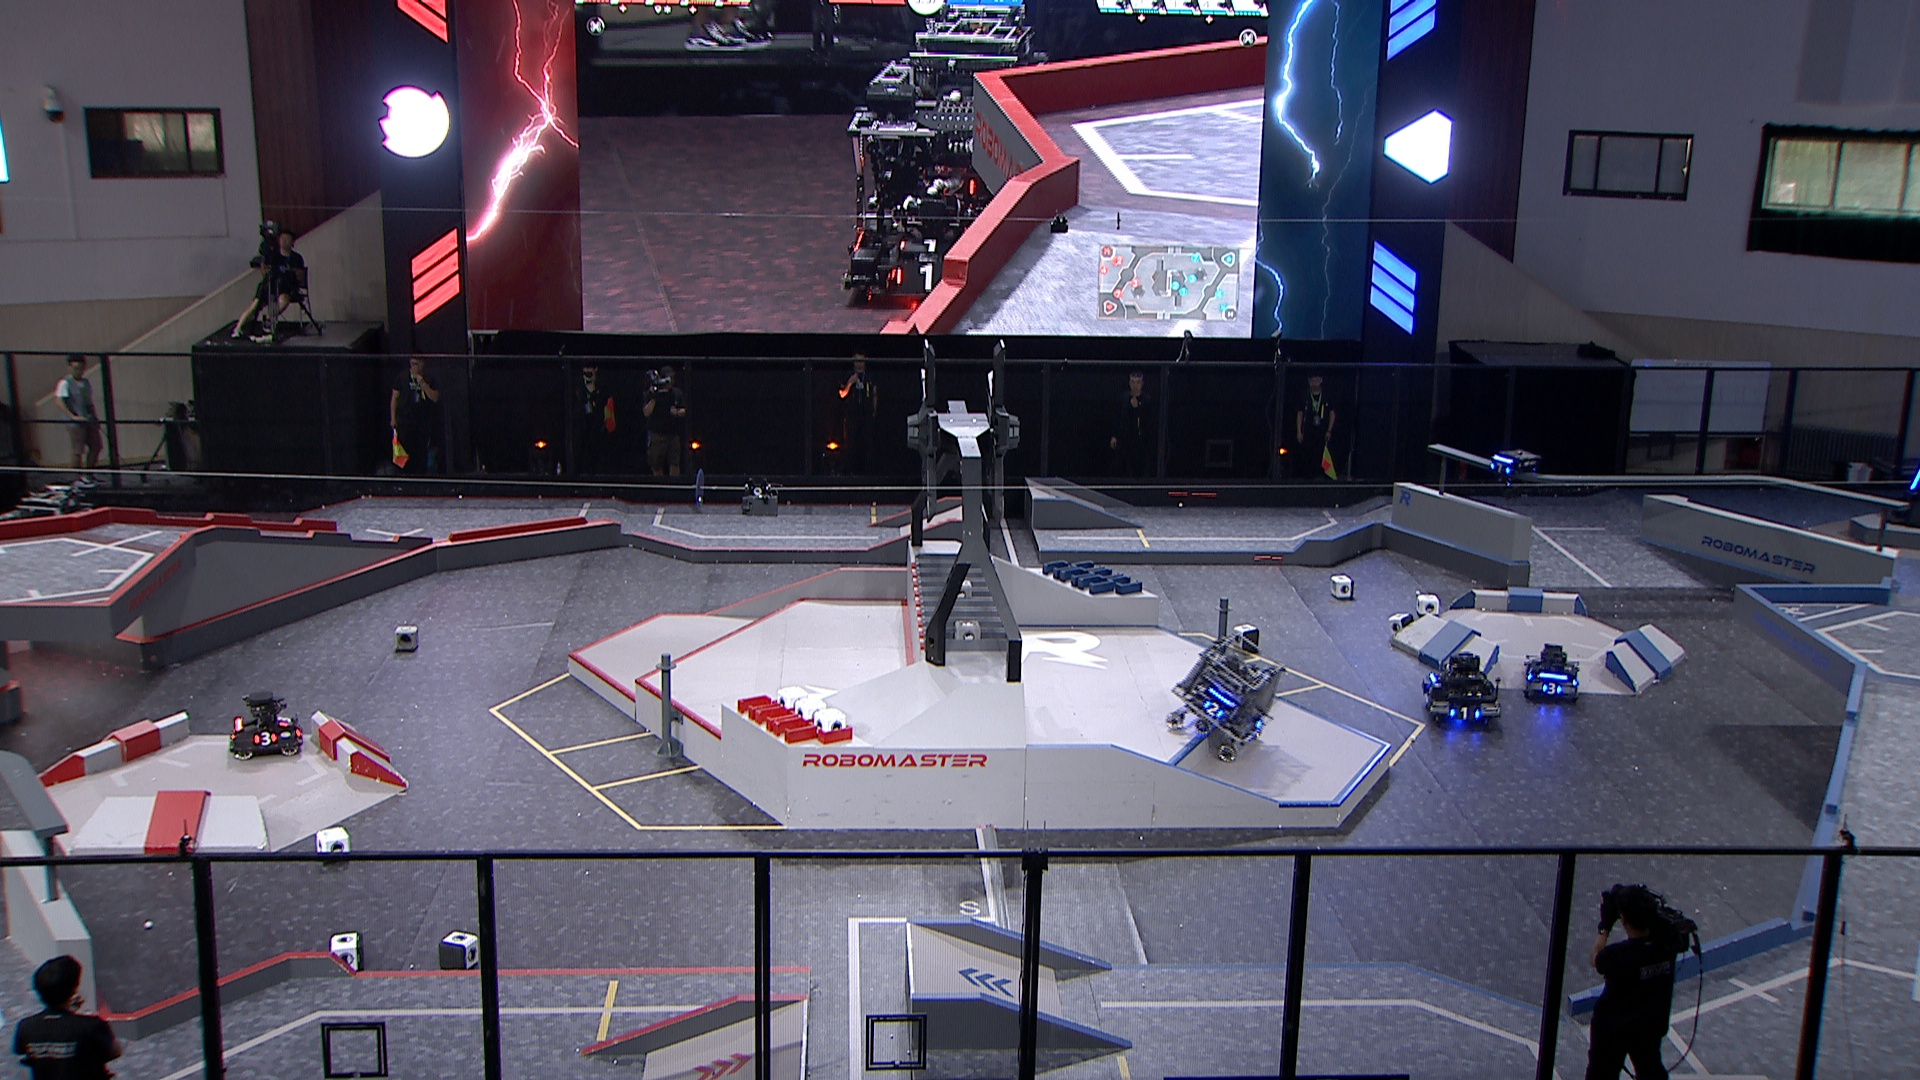armor: (1449, 702, 1481, 723), (1203, 700, 1226, 723), (1542, 680, 1567, 698), (1489, 460, 1513, 477), (253, 731, 278, 746), (1908, 469, 1920, 493), (276, 713, 294, 728)
base: (1888, 448, 1920, 534)
car: (1164, 632, 1288, 764), (1419, 651, 1501, 727), (228, 688, 305, 760), (1522, 644, 1582, 702)
ignore: (841, 80, 1011, 309), (874, 3, 1054, 107)
watcher: (1487, 447, 1539, 491)
